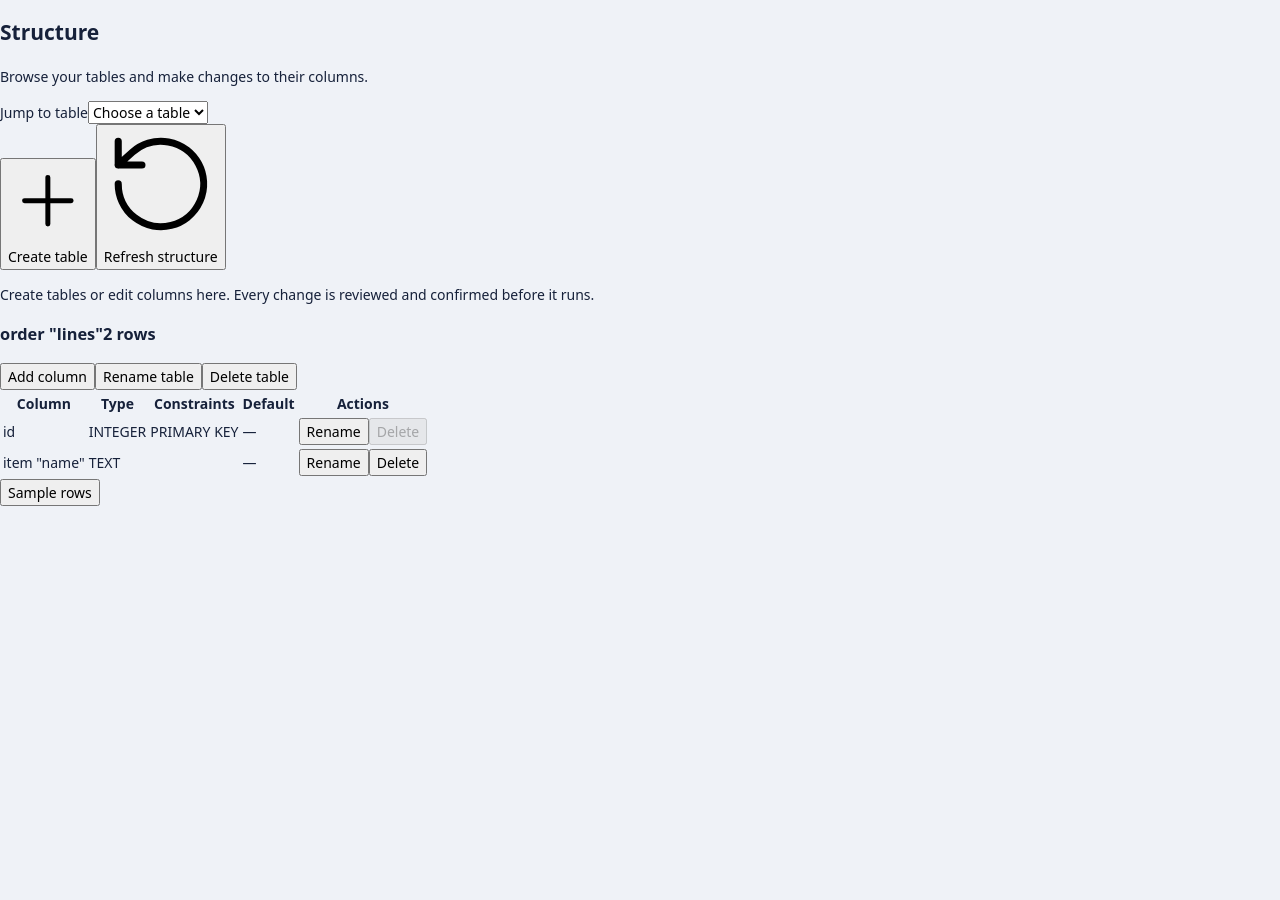
manual structure controls › prepares a quoted new table with a sqlite generated key
The image size is (1280, 900).
Click the button "Create table": (48, 214) [0,158,96,270]
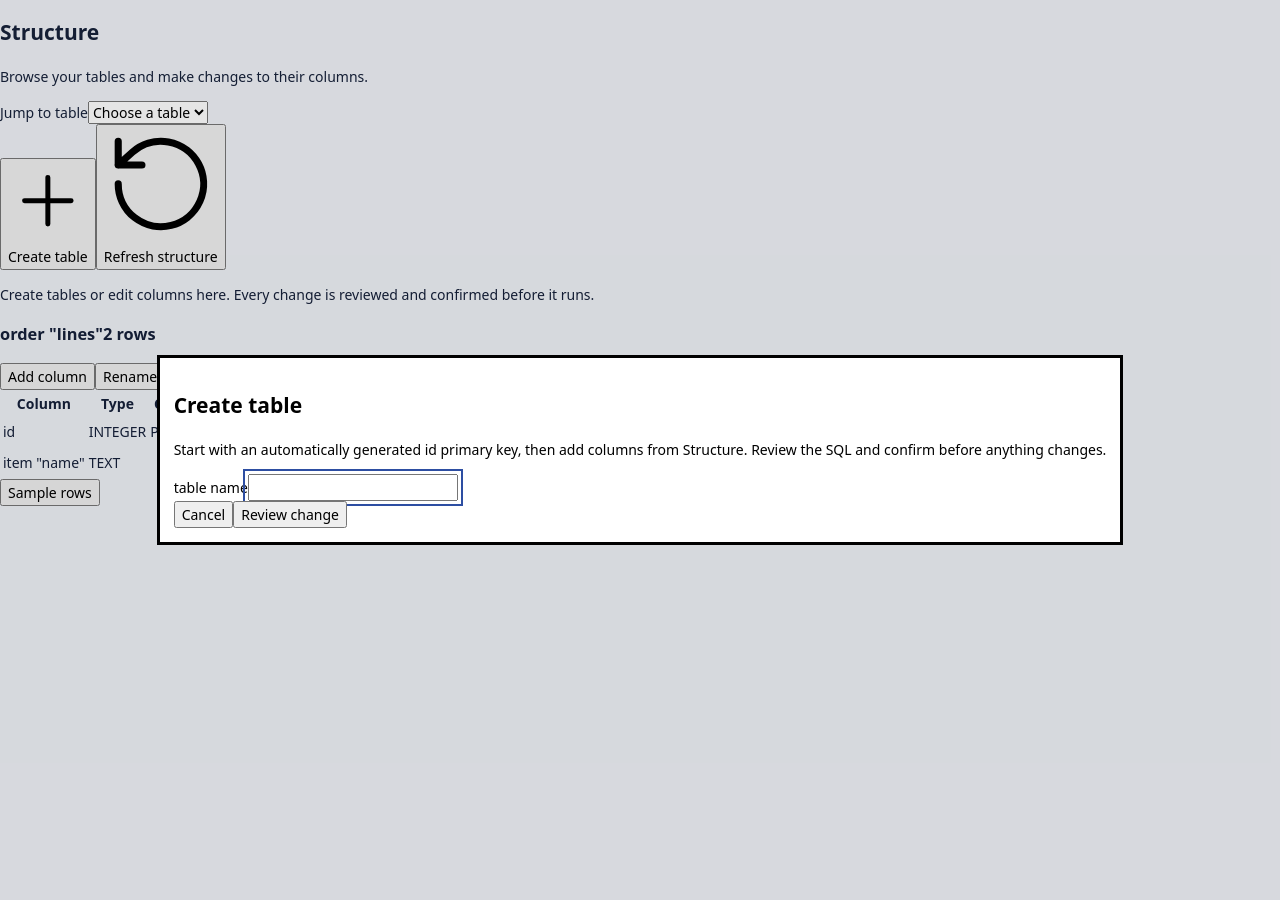
In the field labelled "table name": (353, 487) [248,474,458,501], type "client \"notes\""
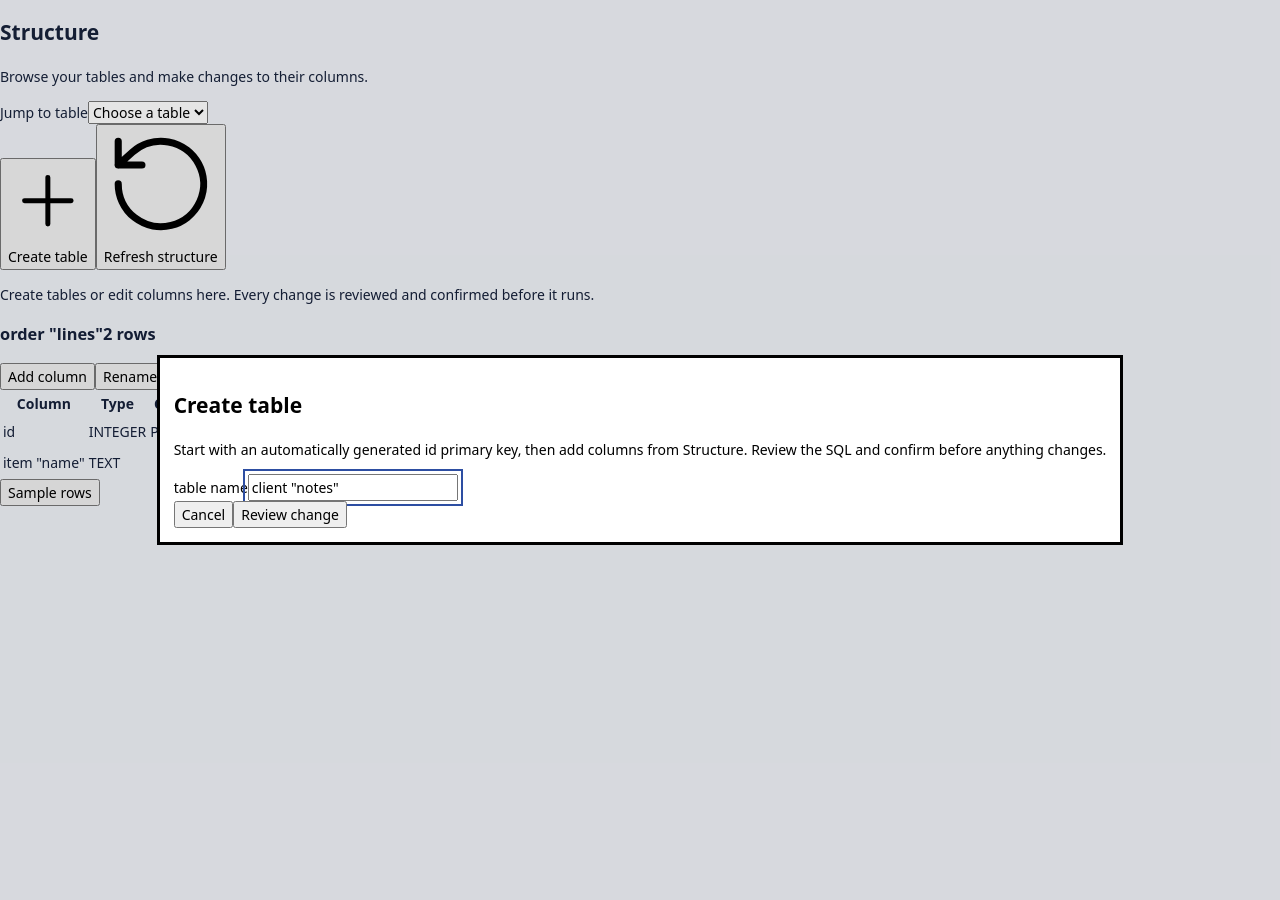
Click the button "Review change": (290, 514) [233,501,347,528]
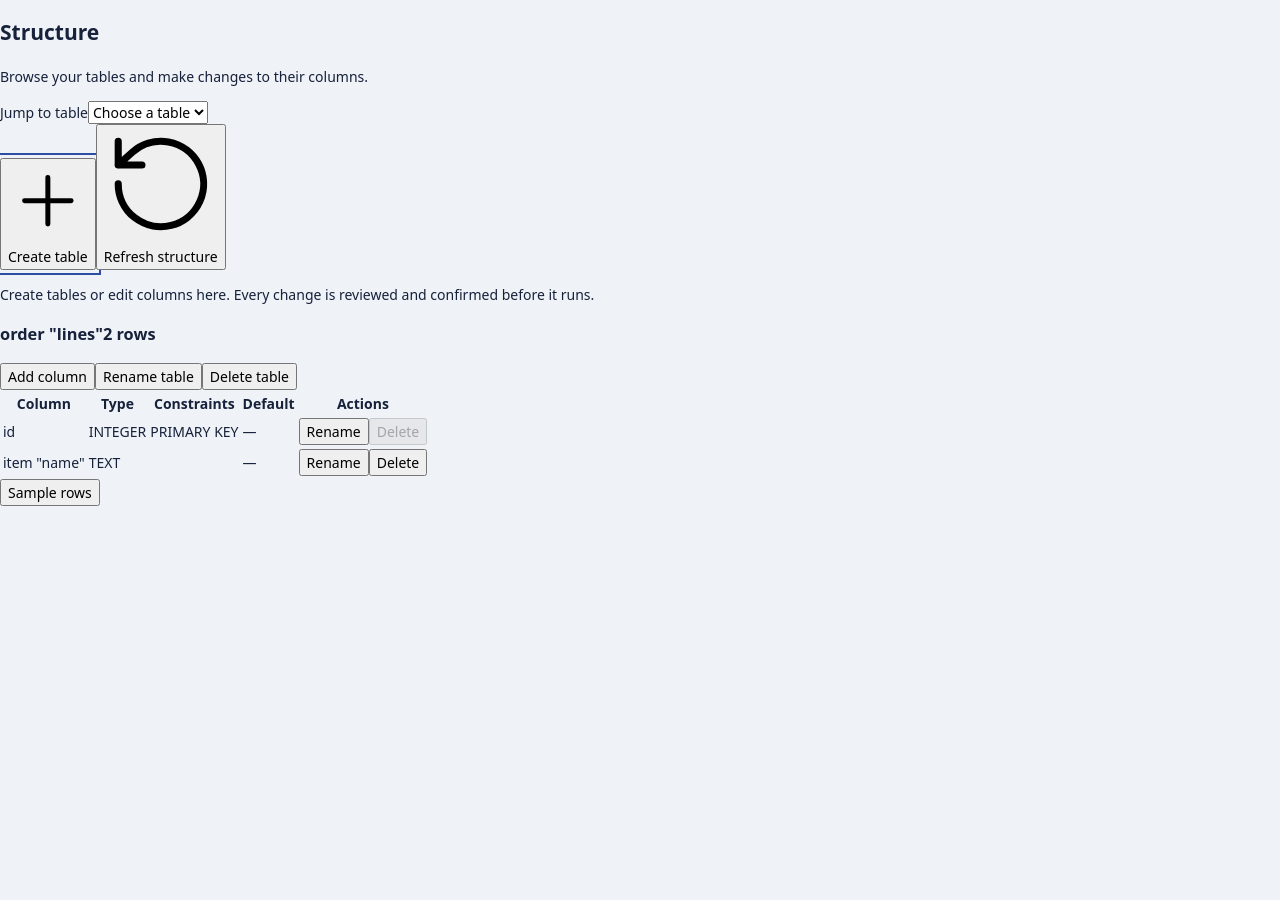
expect the dialog is gone: met
